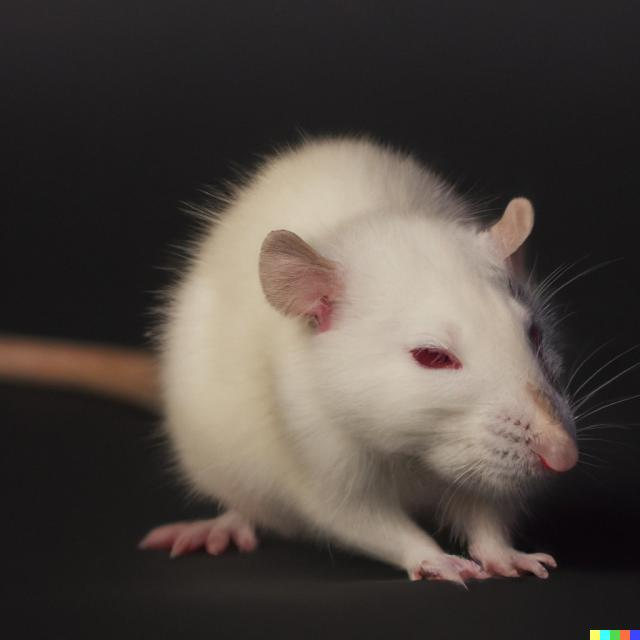rodent: (147, 114, 585, 593)
